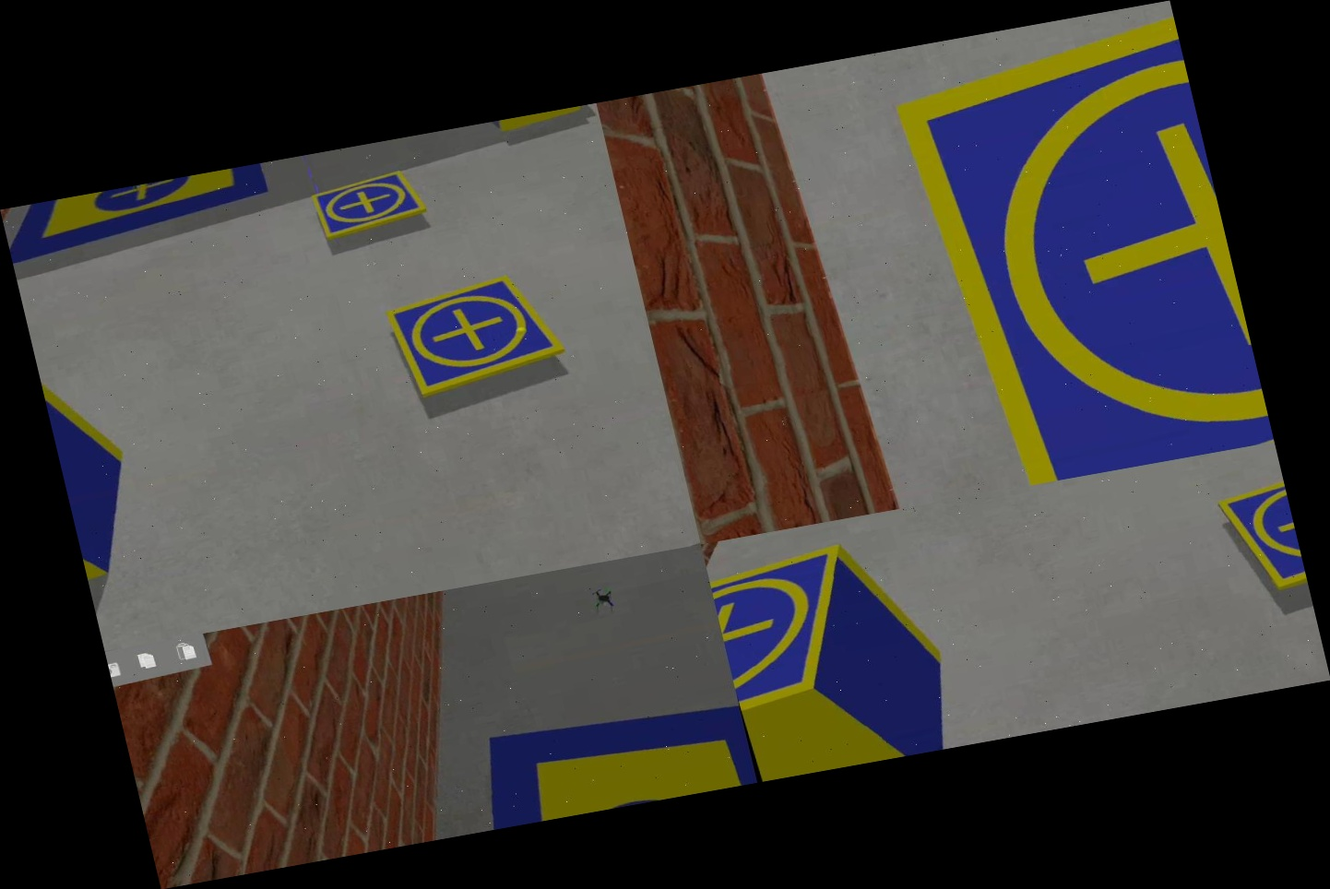large_base: (398, 677, 757, 842), (0, 161, 283, 263)
small_base: (879, 0, 1274, 493), (706, 538, 880, 706), (384, 266, 575, 408), (1213, 471, 1307, 596), (310, 164, 433, 239)
